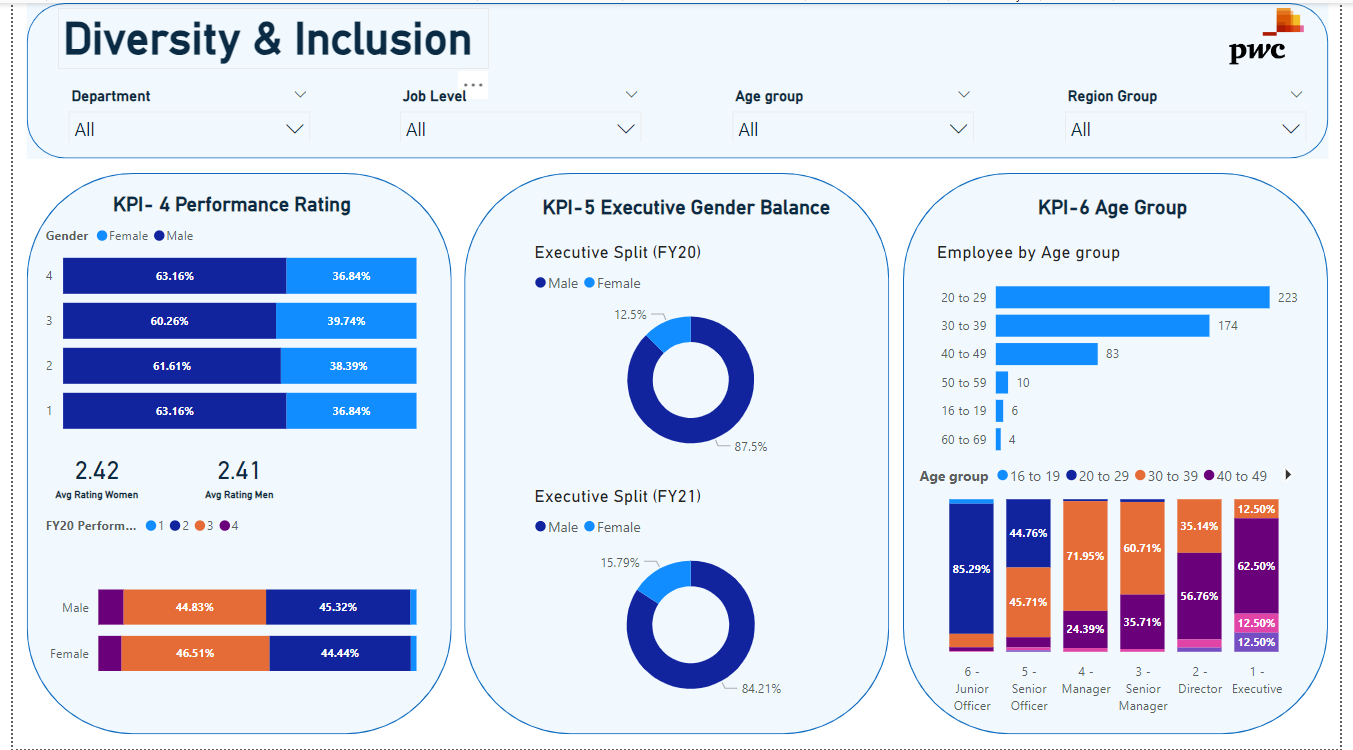

Layout of this report page (visuals, bound fields, positions):
{"tool":"powerbi","page":{"name":"Diversity 2","canvas":[1280,720],"ordinal":1},"visuals":[{"type":"shape","box":[12.9,164.3,410,541.4],"z":0},{"type":"shape","box":[12.9,0,1255.7,150],"z":1000},{"type":"textbox","box":[42.9,4.3,417.1,60],"z":2000},{"type":"image","box":[1161.4,0,95.7,64.3],"z":3000},{"type":"slicer","fields":{"Values":["Pharma Group AG.Department @01.07.2020"]},"box":[42.9,75.7,252.9,58.6],"z":4000},{"type":"slicer","fields":{"Values":["Pharma Group AG.Broad region group: nationality 1"]},"box":[1004.3,75.7,252.9,58.6],"z":5000},{"type":"slicer","fields":{"Values":["Pharma Group AG.Job Level before FY20 promotions"]},"box":[363.3,75.7,252.9,58.6],"z":6000},{"type":"slicer","fields":{"Values":["Pharma Group AG.Age group"]},"box":[683.8,75.7,252.9,58.6],"z":7000},{"type":"shape","box":[858.6,164.3,410,541.4],"z":8000},{"type":"shape","box":[435.7,164.3,410,541.4],"z":9000},{"type":"textbox","box":[58.6,178.6,304.3,34.3],"z":10000},{"type":"textbox","box":[885.7,181.4,351.4,32.9],"z":11000},{"type":"textbox","box":[490,181.4,320,31.4],"z":12000},{"type":"hundredPercentStackedBarChart","fields":{"Series":["Pharma Group AG.Gender"],"Y":["CountNonNull(Pharma Group AG.Employee ID)"],"Category":["Pharma Group AG.FY20 Performance Rating"]},"box":[27,205,368,219],"z":13000},{"type":"card","fields":{"Values":["Avg(Pharma Group AG.FY20 Performance Rating)"]},"box":[27,424,109,61],"z":14000},{"type":"card","fields":{"Values":["Avg(Pharma Group AG.FY20 Performance Rating)"]},"box":[164,424,109,61],"z":15000},{"type":"hundredPercentStackedBarChart","fields":{"Category":["Pharma Group AG.Gender"],"Series":["Pharma Group AG.FY20 Performance Rating"],"Y":["Sum(Pharma Group AG.FY20 Performance Rating)"]},"box":[27,485,368,207],"z":16000},{"type":"donutChart","title":"Executive Split (FY20)","fields":{"Category":["Pharma Group AG.Gender"],"Y":["CountNonNull(Pharma Group AG.Job Level after FY20 promotions)"]},"box":[498,230,312,218],"z":17000},{"type":"donutChart","title":"Executive Split (FY21)","fields":{"Category":["Pharma Group AG.Gender"],"Y":["CountNonNull(Pharma Group AG.Job Level after FY21 promotions)"]},"box":[498,466,312,220],"z":18000},{"type":"clusteredBarChart","title":"Employee by Age group","fields":{"Y":["CountNonNull(Pharma Group AG.Employee ID)"],"Category":["Pharma Group AG.Age group"]},"box":[886,230,364,218],"z":19000},{"type":"hundredPercentStackedColumnChart","fields":{"Series":["Pharma Group AG.Age group"],"Y":["CountNonNull(Pharma Group AG.Job Level after FY20 promotions)"],"Category":["Pharma Group AG.Job Level after FY20 promotions"]},"box":[870,435,380,257.5],"z":20000}]}

Visuals, with their boxes in screenshot pixels (x1, y1, x2, y2), scaled from the page's 1280x720 canvas onto the 1353x750 screenshot:
shape: (left=14, top=171, right=447, bottom=735)
shape: (left=14, top=0, right=1341, bottom=156)
textbox: (left=45, top=4, right=486, bottom=67)
image: (left=1228, top=0, right=1329, bottom=67)
slicer - Pharma Group AG.Department @01.07.2020: (left=45, top=79, right=313, bottom=140)
slicer - Pharma Group AG.Broad region group: nationality 1: (left=1062, top=79, right=1329, bottom=140)
slicer - Pharma Group AG.Job Level before FY20 promotions: (left=384, top=79, right=651, bottom=140)
slicer - Pharma Group AG.Age group: (left=723, top=79, right=990, bottom=140)
shape: (left=908, top=171, right=1341, bottom=735)
shape: (left=461, top=171, right=894, bottom=735)
textbox: (left=62, top=186, right=384, bottom=222)
textbox: (left=936, top=189, right=1308, bottom=223)
textbox: (left=518, top=189, right=856, bottom=222)
hundredPercentStackedBarChart - Pharma Group AG.Gender x CountNonNull(Pharma Group AG.Employee ID): (left=29, top=214, right=418, bottom=442)
card - Avg(Pharma Group AG.FY20 Performance Rating): (left=29, top=442, right=144, bottom=505)
card - Avg(Pharma Group AG.FY20 Performance Rating): (left=173, top=442, right=289, bottom=505)
hundredPercentStackedBarChart - Pharma Group AG.Gender x Pharma Group AG.FY20 Performance Rating: (left=29, top=505, right=418, bottom=721)
"Executive Split (FY20)" donutChart: (left=526, top=240, right=856, bottom=467)
"Executive Split (FY21)" donutChart: (left=526, top=485, right=856, bottom=715)
"Employee by Age group" clusteredBarChart: (left=937, top=240, right=1321, bottom=467)
hundredPercentStackedColumnChart - Pharma Group AG.Age group x CountNonNull(Pharma Group AG.Job Level after FY20 promotions): (left=920, top=453, right=1321, bottom=721)
